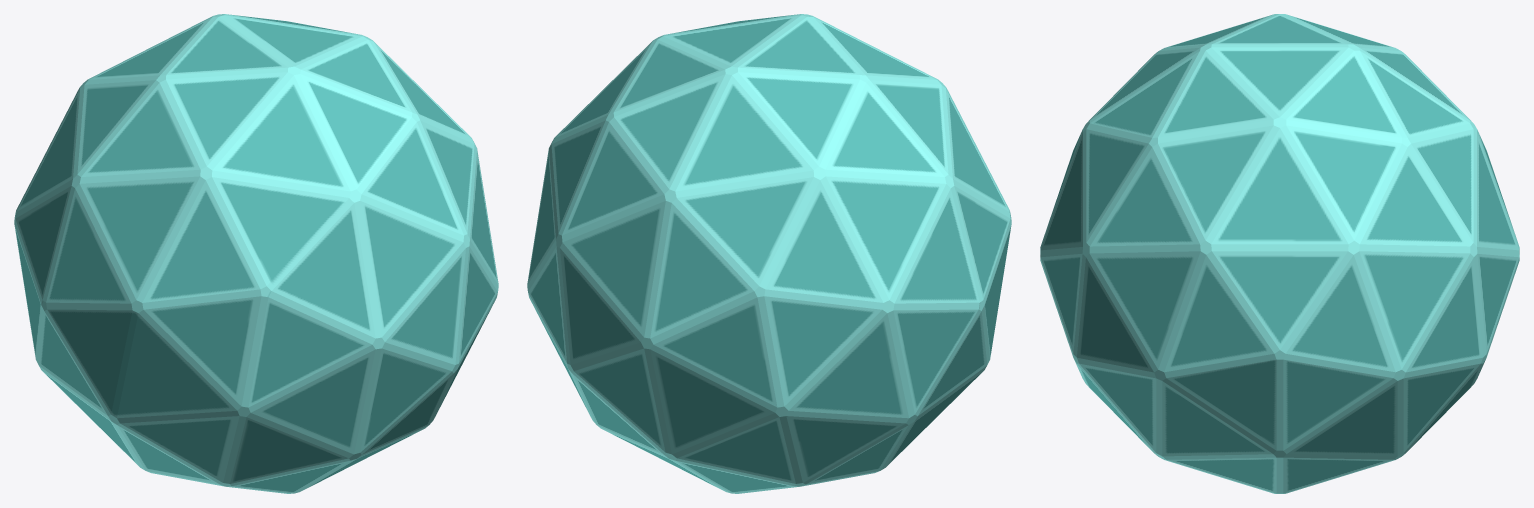
File: Combustible_01.fbx
3 views of the same model, side by side, from view 1: azimuth 30°, elevation 25°; view 2: azimuth 150°, elevation 25°; view 3: azimuth 270°, elevation 25° (orthographic). The views are drawn at different scales.
Visible parts, largest first — view 1: Combustible_01; view 2: Combustible_01; view 3: Combustible_01.
Boxes of the visible parts, x1,y1,x2,y2 form: Combustible_01: (14,14,498,493); Combustible_01: (527,14,1011,493); Combustible_01: (1040,14,1519,493).
Bounding box in the file's own units: 0.8954 × 0.8572 × 0.8938.
1 material, 1 textured.
